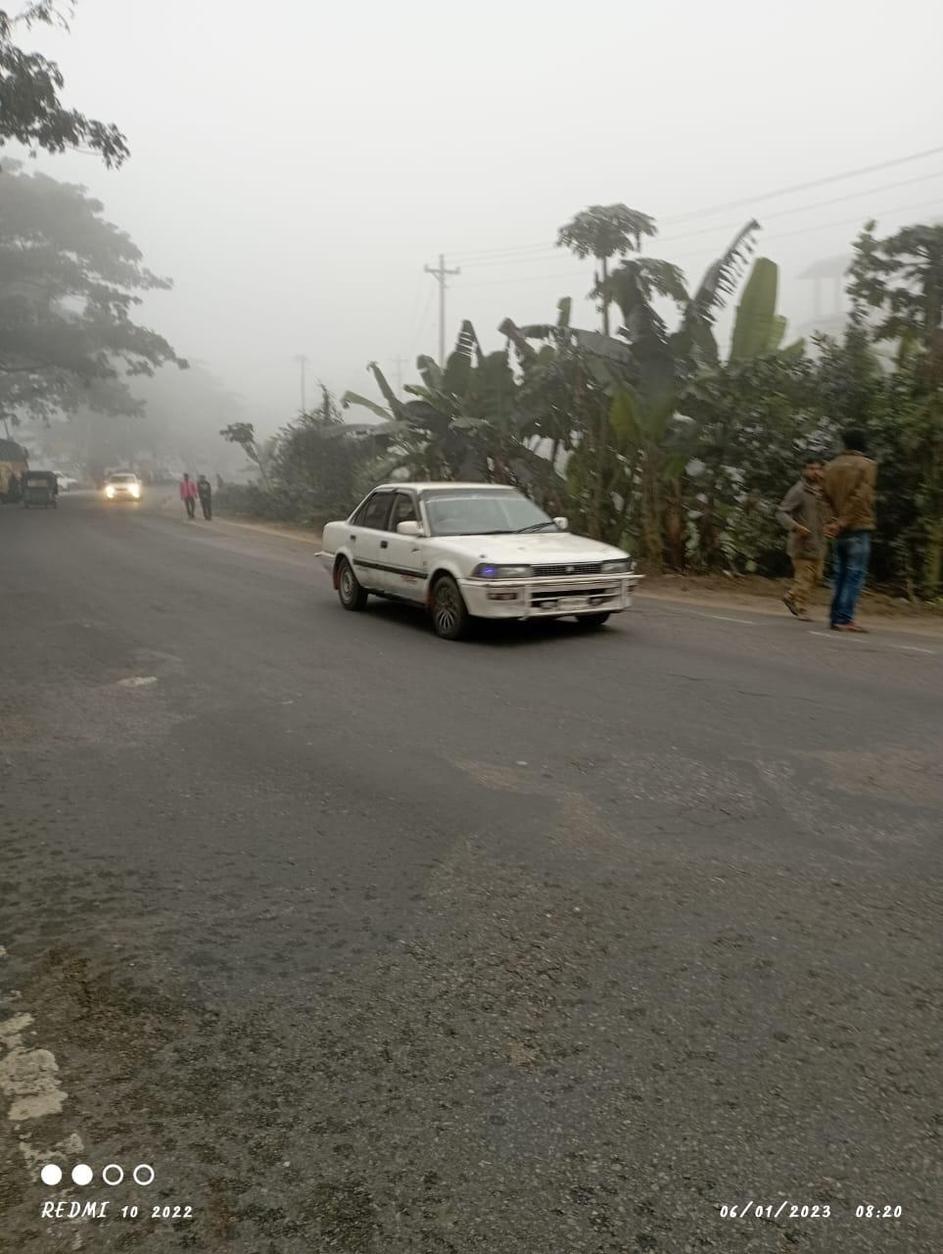Car: (309, 477, 652, 643), (98, 465, 146, 499)
